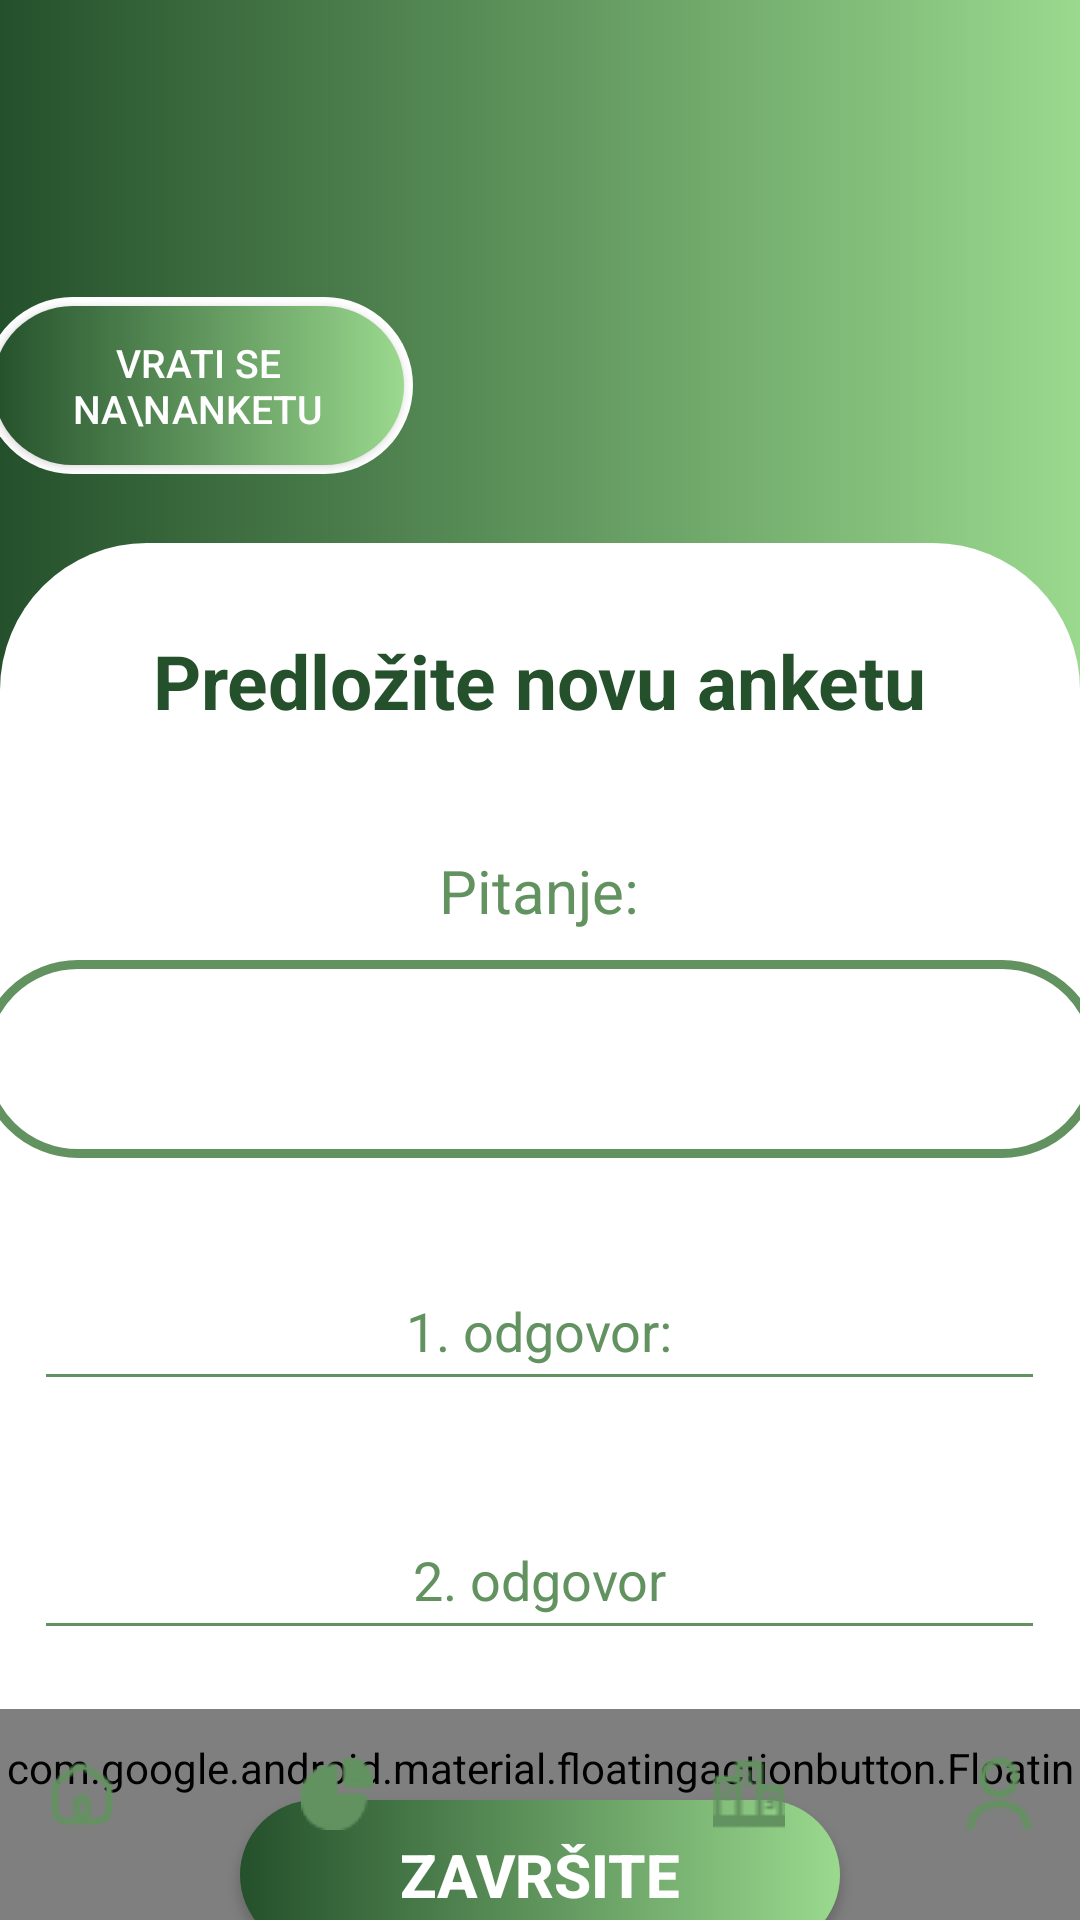

Point at icon controls on the screen. Image size 1080×1920, points as [x,y].
home: [85,1792]
toplista: [749,1794]
user: [1002,1794]
